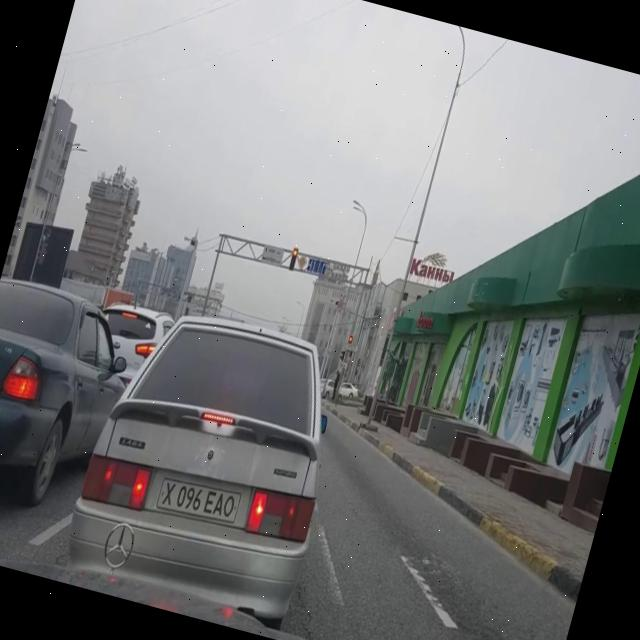License-plate: (153, 472, 244, 531)
